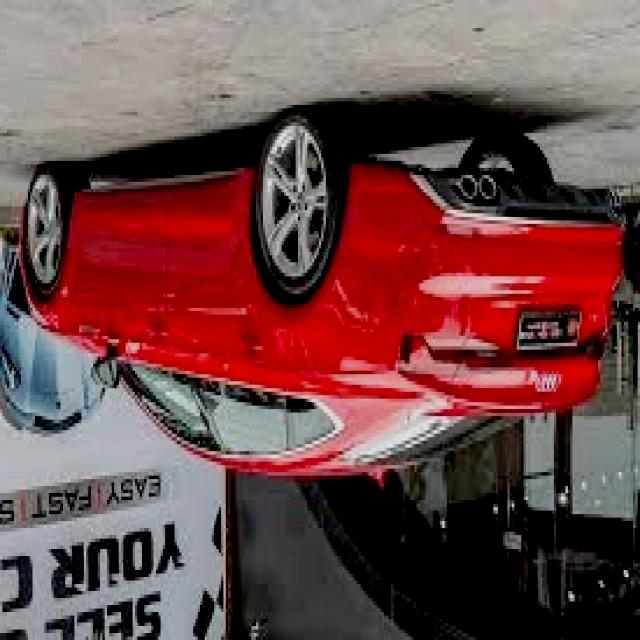red: (18, 143, 629, 478)
